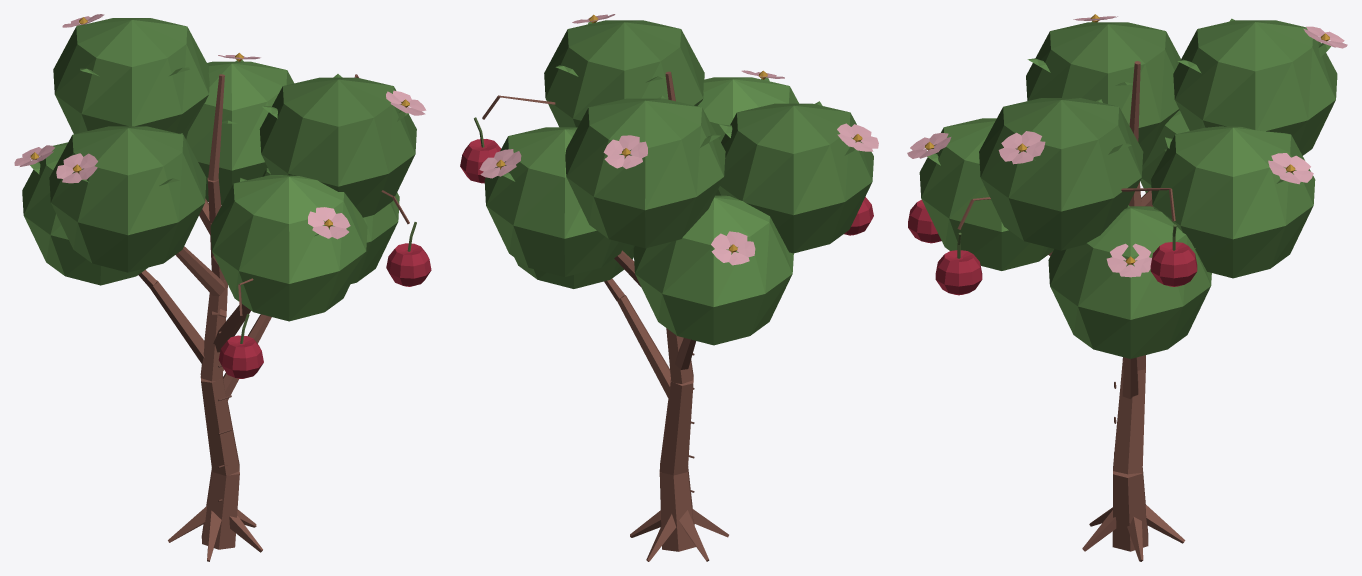
Rendered from cherry_tree.glb.
3 views of the same model, side by side, from view 1: azimuth 30°, elevation 25°; view 2: azimuth 150°, elevation 25°; view 3: azimuth 270°, elevation 25° (orthographic). The views are drawn at different scales.
Visible parts, largest first — view 1: leaves, branches, blossom, fruit_2, fruit_1; view 2: leaves, branches, blossom, fruit_3, fruit_1; view 3: leaves, branches, blossom, fruit_3, fruit_2, fruit_1.
Boxes of the visible parts, <box> form: leaves: <box>22,18,416,321</box>; branches: <box>138,74,393,561</box>; blossom: <box>14,14,426,239</box>; fruit_2: <box>386,196,431,286</box>; fruit_1: <box>218,284,263,378</box>; leaves: <box>484,20,873,345</box>; branches: <box>499,71,728,561</box>; blossom: <box>479,14,878,265</box>; fruit_3: <box>460,95,500,183</box>; fruit_1: <box>844,197,873,235</box>; leaves: <box>919,18,1337,358</box>; branches: <box>973,61,1185,561</box>; blossom: <box>907,14,1347,277</box>; fruit_3: <box>1150,188,1197,286</box>; fruit_2: <box>935,199,982,295</box>; fruit_1: <box>908,199,941,243</box>.
Bounding box in the file's own units: 2.4 × 3.05 × 2.4.
